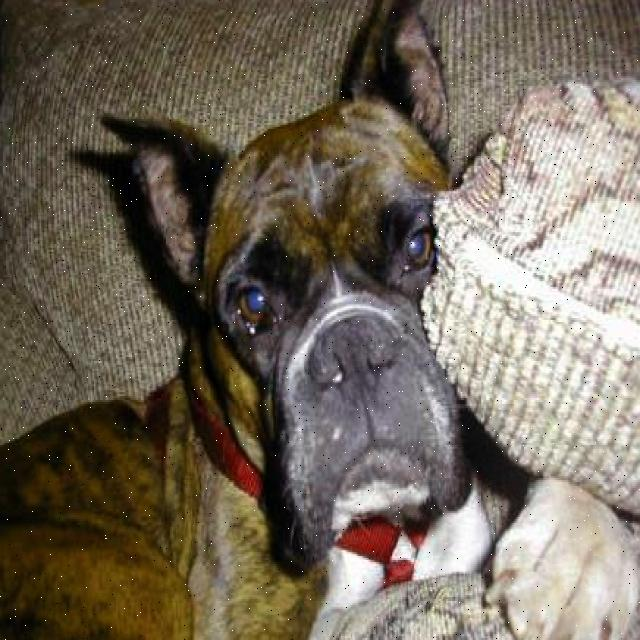Dog: (78, 0, 511, 581)
